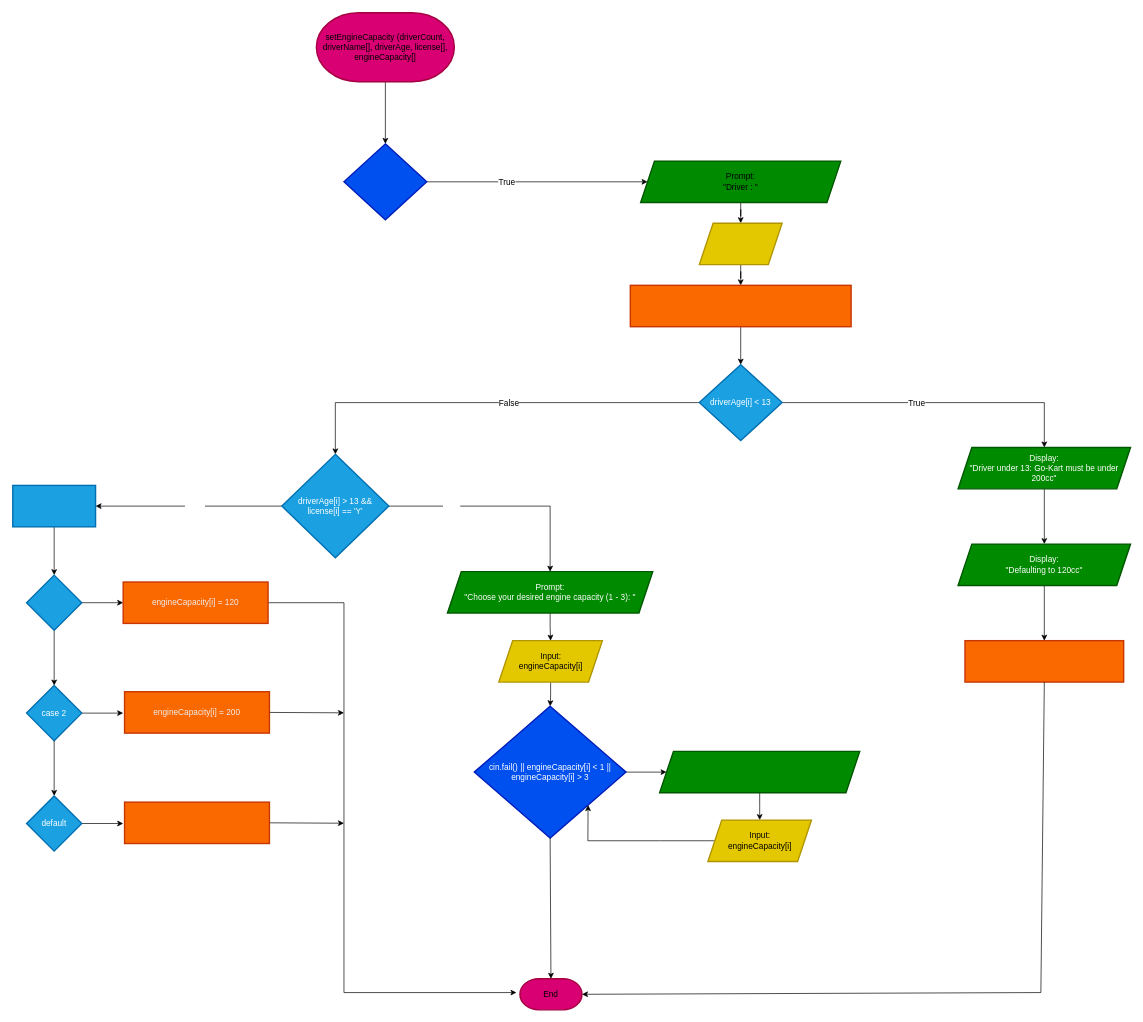
Some shapes in this 1143 by 1022 pixel diagram are drawn without their labels. The box of each missing label's shape, as (x1, y1, x2, y2) in pixels:
case 1: (26, 574, 82, 631)
displayEngineCapacities (driverAge[i], license[i]): (629, 284, 851, 327)
engineCapacity[i]: (12, 484, 96, 527)
engineCapacity[i] = 1: (964, 640, 1124, 682)
engineCapacity[i] = 270: (124, 801, 270, 844)
i = 0, i < driverCount, i++: (343, 143, 427, 220)
Input: driverName[i]: (698, 222, 782, 265)
Prompt: "Please enter a valid engine capacity (1 - 3): ": (659, 750, 860, 793)
